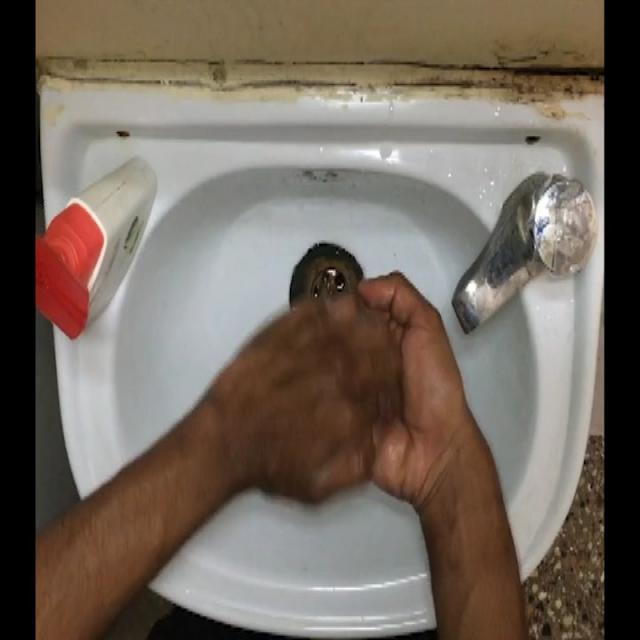step_4: (244, 265, 453, 487)
